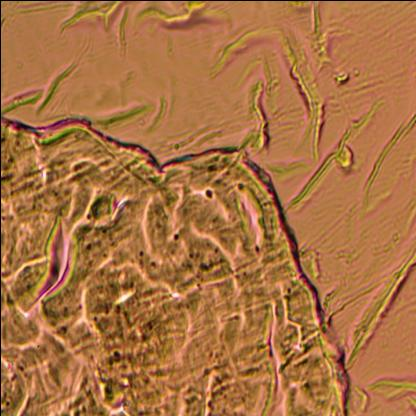Normal: (0, 132, 364, 416)
